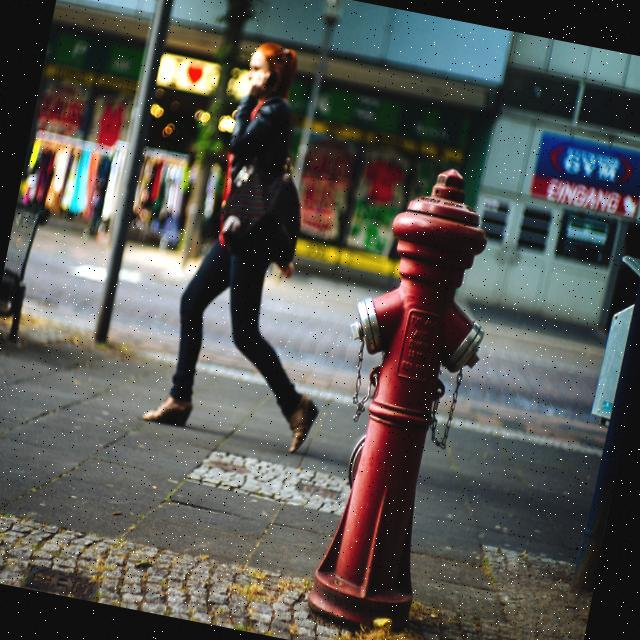fire_hydrant: (295, 156, 515, 640)
